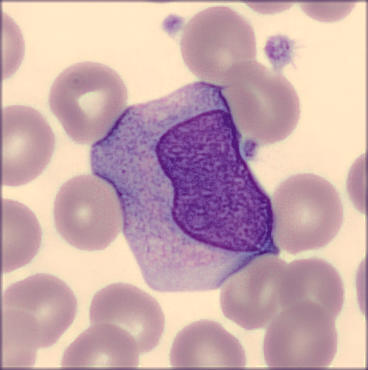WBC: (91, 83, 287, 296)
